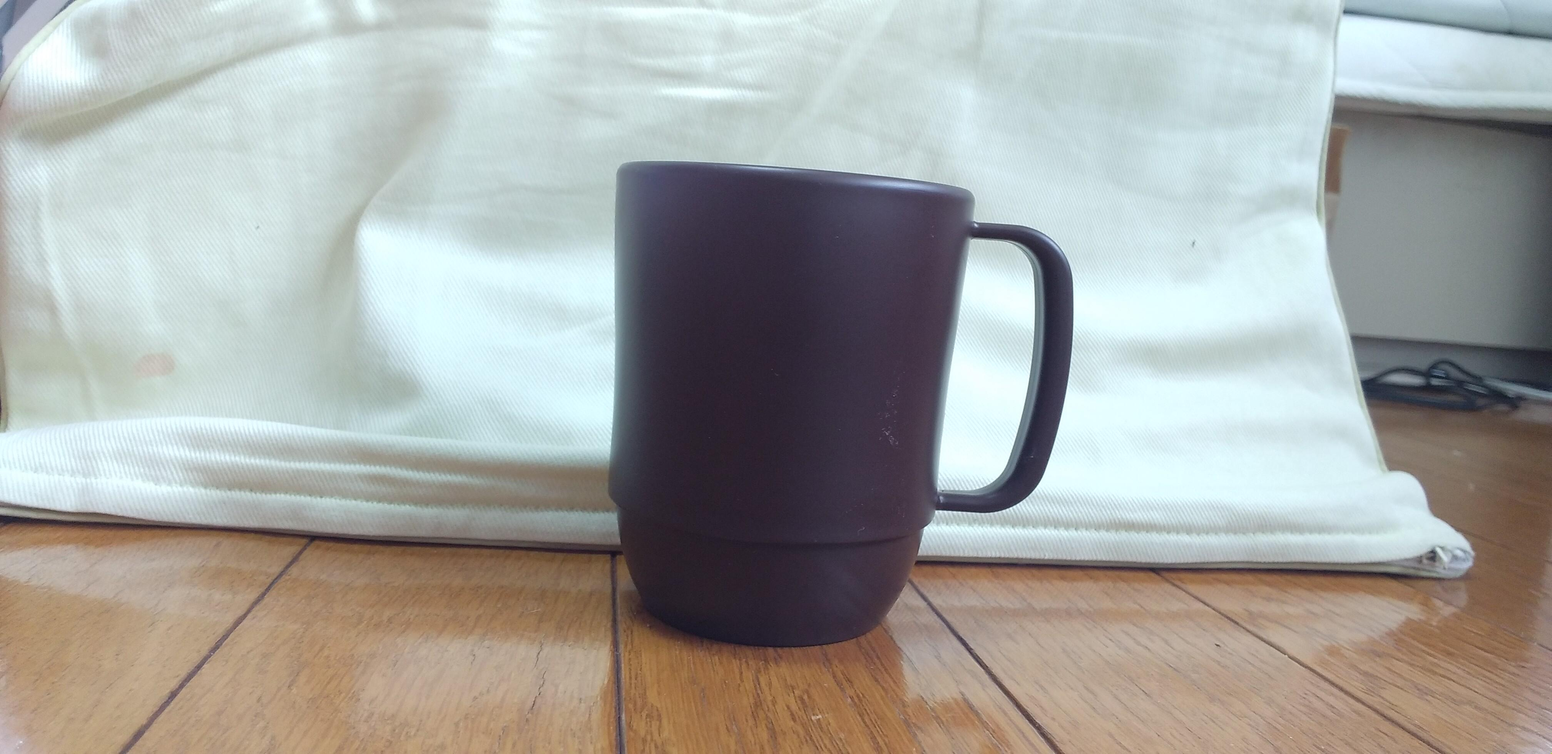mug-real100-3d100: (608, 162, 1073, 646)
